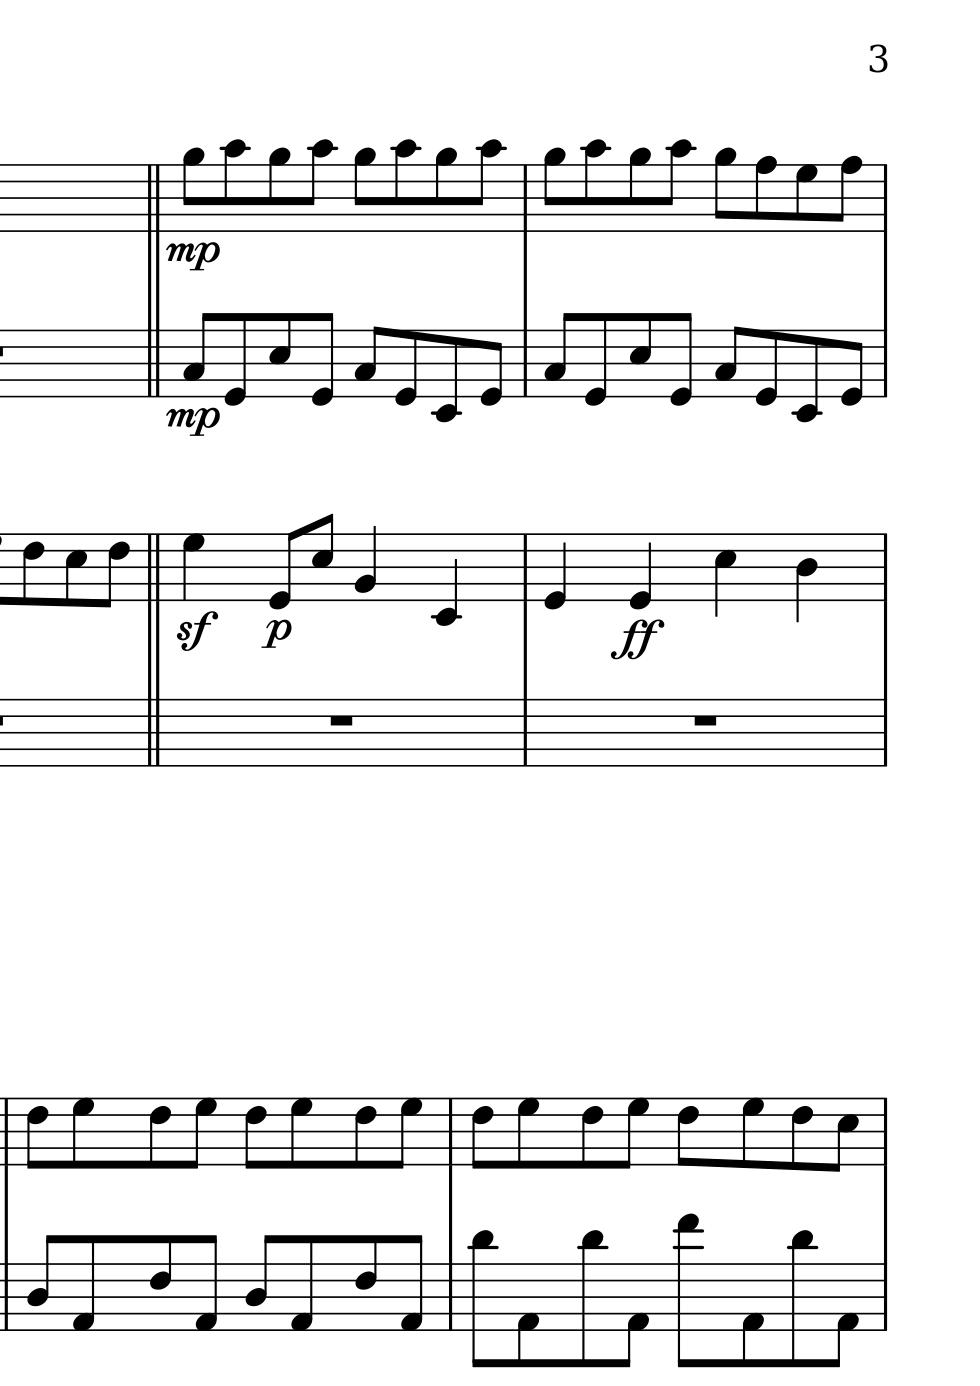3: (867, 42, 889, 75)
4_-2: (431, 530, 461, 627)
4_0: (542, 531, 568, 610), (627, 531, 653, 610)
4_2: (353, 524, 378, 603)
4_4: (792, 531, 819, 625)
4_5: (712, 531, 738, 621)
4_7: (179, 531, 208, 603)
8_-2: (430, 328, 461, 424), (791, 328, 822, 424)
8_0: (266, 527, 301, 612), (222, 311, 249, 408), (667, 310, 694, 410), (309, 310, 335, 409), (582, 311, 609, 410), (753, 326, 781, 409), (478, 327, 505, 408), (393, 327, 419, 409), (839, 328, 864, 408)
8_1: (619, 1260, 650, 1370), (830, 1260, 860, 1368), (514, 1261, 541, 1370), (738, 1261, 765, 1370), (397, 1233, 425, 1334), (69, 1232, 97, 1335), (288, 1232, 315, 1334), (192, 1233, 218, 1333)
8_10: (303, 138, 336, 235), (471, 139, 504, 236), (661, 139, 693, 234), (220, 137, 249, 234), (391, 138, 418, 234), (581, 138, 608, 234)
8_11: (468, 1229, 497, 1370), (577, 1228, 605, 1370), (788, 1229, 813, 1370)
8_13: (672, 1215, 703, 1370)
8_3: (542, 311, 575, 400), (181, 311, 213, 398), (352, 324, 384, 400), (713, 324, 743, 399)
8_4: (24, 1233, 57, 1333), (243, 1233, 276, 1332)
8_5: (827, 1094, 859, 1174), (265, 310, 293, 399), (626, 310, 653, 399), (309, 511, 335, 602), (62, 531, 87, 609)
8_6: (98, 531, 132, 610), (147, 1232, 173, 1333), (353, 1232, 379, 1333), (788, 1095, 815, 1173), (468, 1095, 495, 1170), (242, 1096, 267, 1171), (673, 1096, 700, 1168), (146, 1095, 171, 1171), (19, 532, 43, 607), (24, 1096, 49, 1171), (579, 1096, 603, 1171), (353, 1096, 377, 1171)
8_7: (183, 1095, 217, 1171), (389, 1095, 422, 1170), (616, 1095, 649, 1170), (69, 1096, 97, 1171), (793, 162, 818, 234), (288, 1096, 313, 1169), (515, 1096, 540, 1169), (740, 1096, 765, 1169)
8_8: (829, 154, 863, 234), (753, 155, 778, 235)
8_9: (432, 147, 457, 235), (712, 147, 737, 235), (265, 147, 291, 234), (351, 147, 377, 234), (541, 147, 566, 234), (626, 147, 651, 234), (180, 146, 205, 232)
Double_barline: (138, 698, 168, 768), (142, 329, 167, 397), (142, 534, 167, 601), (142, 165, 167, 231)
Rests1: (325, 712, 356, 729), (689, 712, 720, 729)
Single_barline: (515, 534, 536, 601), (442, 1098, 460, 1166), (515, 700, 533, 767), (876, 533, 893, 601), (442, 1263, 459, 1331), (517, 165, 533, 232), (517, 330, 533, 397), (876, 699, 893, 766), (876, 1264, 893, 1331), (877, 1098, 893, 1166), (876, 164, 892, 232), (877, 330, 892, 399), (1, 1096, 14, 1166), (1, 1263, 14, 1331)
ff: (609, 617, 665, 664)
mp: (162, 404, 222, 443), (162, 239, 221, 274)
p: (259, 617, 293, 651)
sf: (176, 609, 216, 653)
